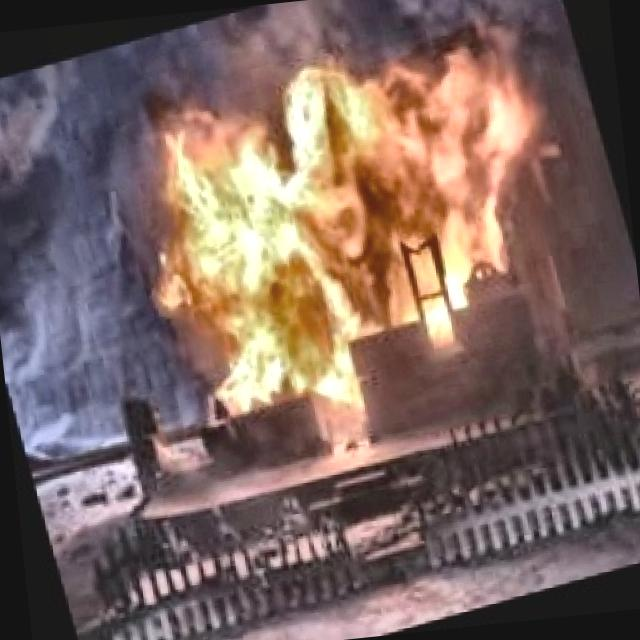fire: (79, 0, 611, 459)
